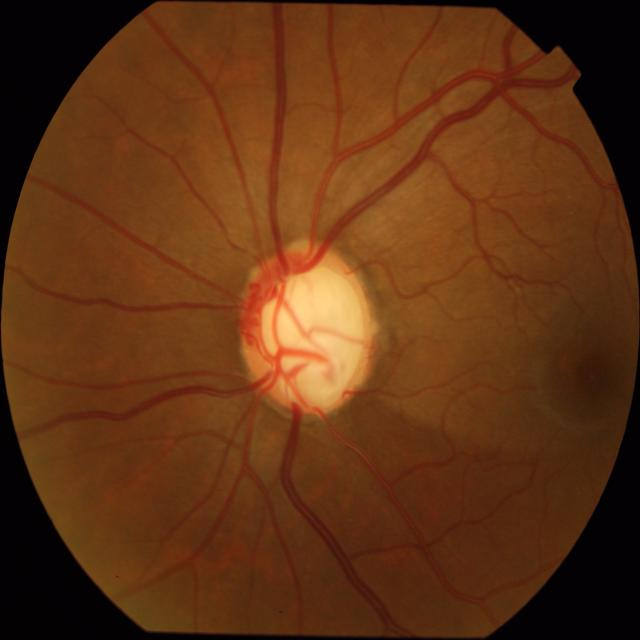OC: (260, 266, 364, 409)
OD: (240, 244, 374, 416)
